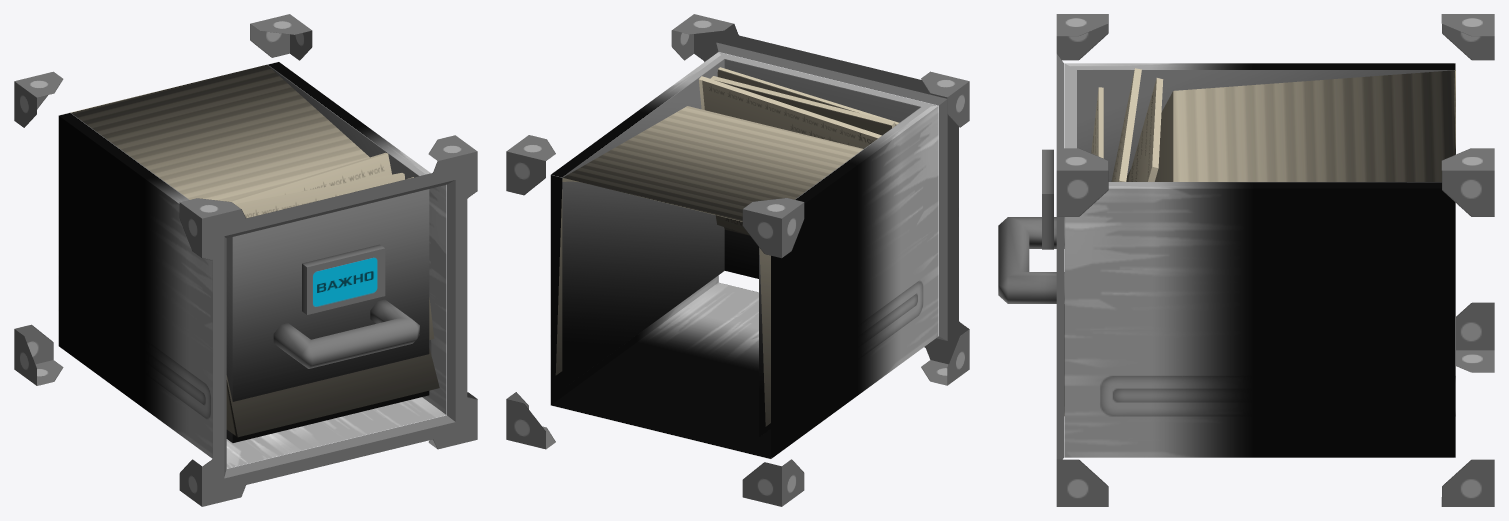
Rendered from obj_interactive_filecabinet_closed.fbx.
The picture shows the model from 3 angles, left to right: view 1: azimuth 30°, elevation 25°; view 2: azimuth 150°, elevation 25°; view 3: azimuth 270°, elevation 25°; orthographic projection. The views are drawn at different scales.
Visible parts, largest first — view 1: obj_interactive_filecabinet_closed_lod0; view 2: obj_interactive_filecabinet_closed_lod0; view 3: obj_interactive_filecabinet_closed_lod0.
Part boxes in pixels (bbox=[...]): obj_interactive_filecabinet_closed_lod0: bbox=[14, 14, 477, 506]; obj_interactive_filecabinet_closed_lod0: bbox=[506, 14, 969, 506]; obj_interactive_filecabinet_closed_lod0: bbox=[998, 14, 1494, 506].
Size of the model in its own units: 2 by 2 by 2.67.
1 material, 1 textured.
